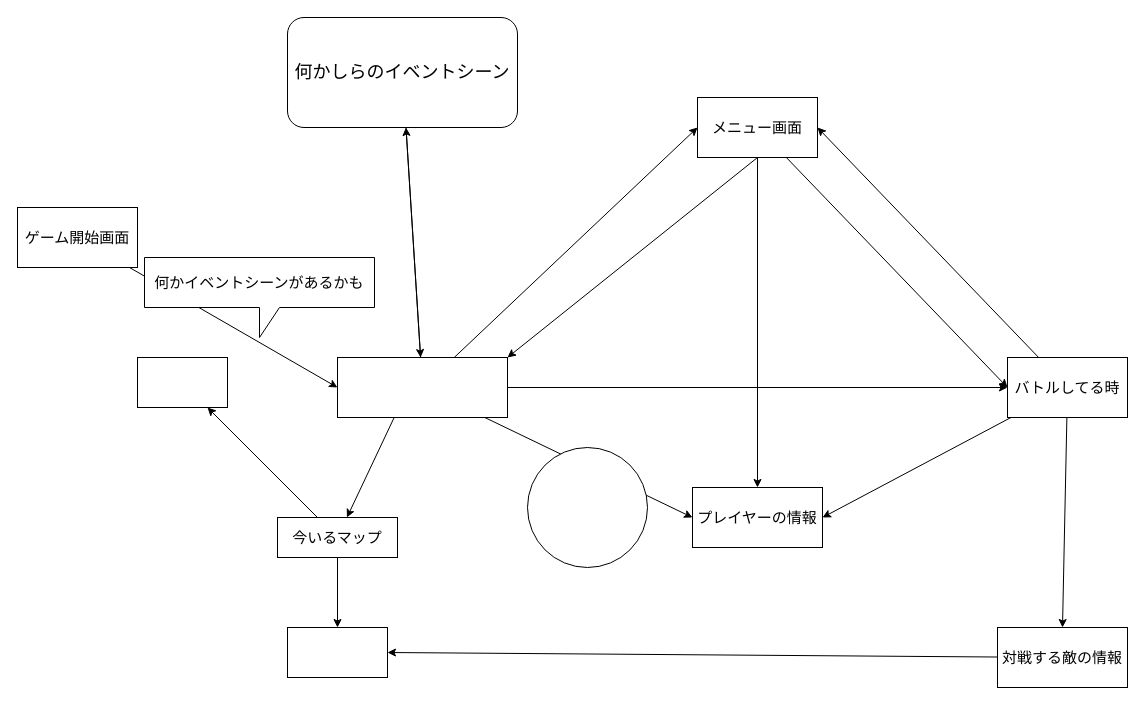
This 1145x705 diagram has some shape labels left out. The shapes that lost their labels are listed below. From the top down, each one's centre as x and y in pixels, then its label:
At point 182,382: "NPCの情報".
At point 422,387: "マップを移動している時".
At point 587,507: "壁がどこにあるかとか".
At point 337,652: "出現する敵の情報".
